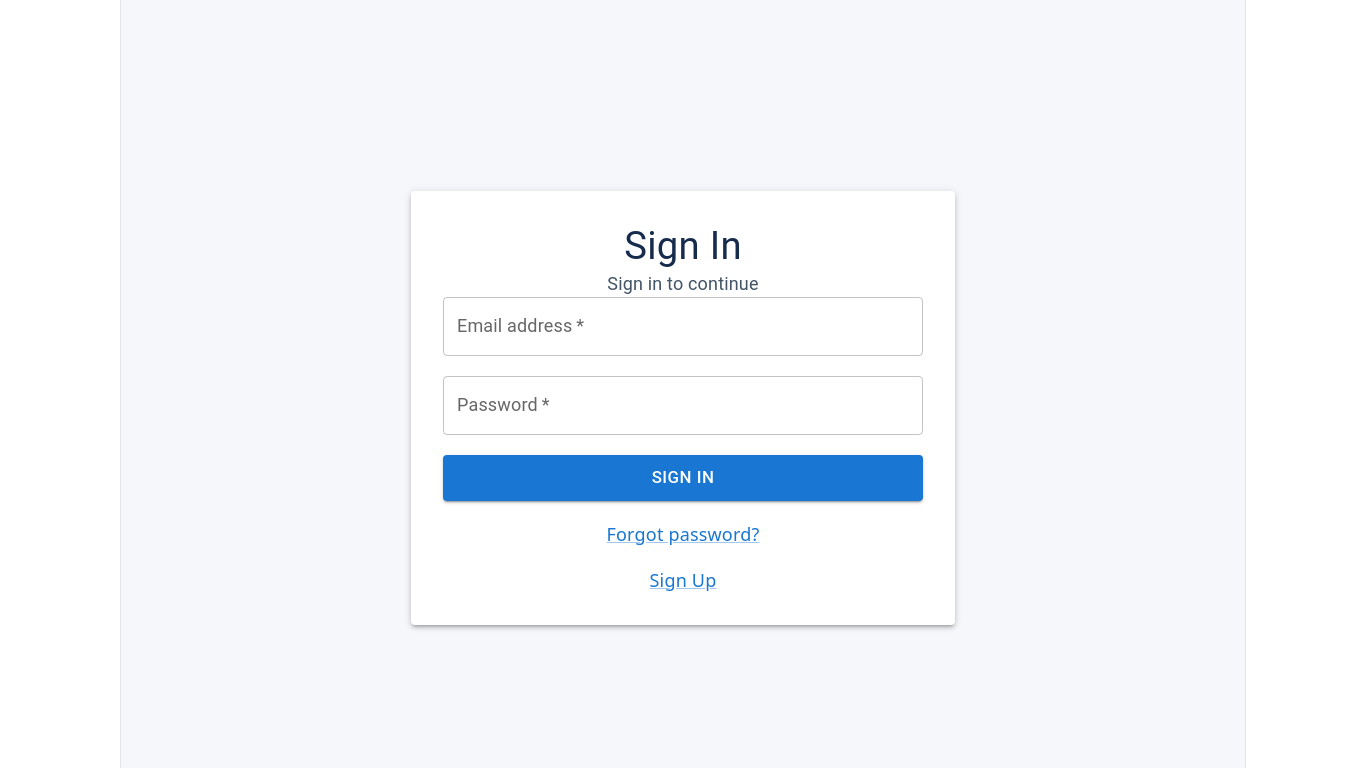
Test: Sign In component › shows required validation errors when fields are empty
Click the button "Sign In". click: (683, 478)
box: [443,455,923,501]
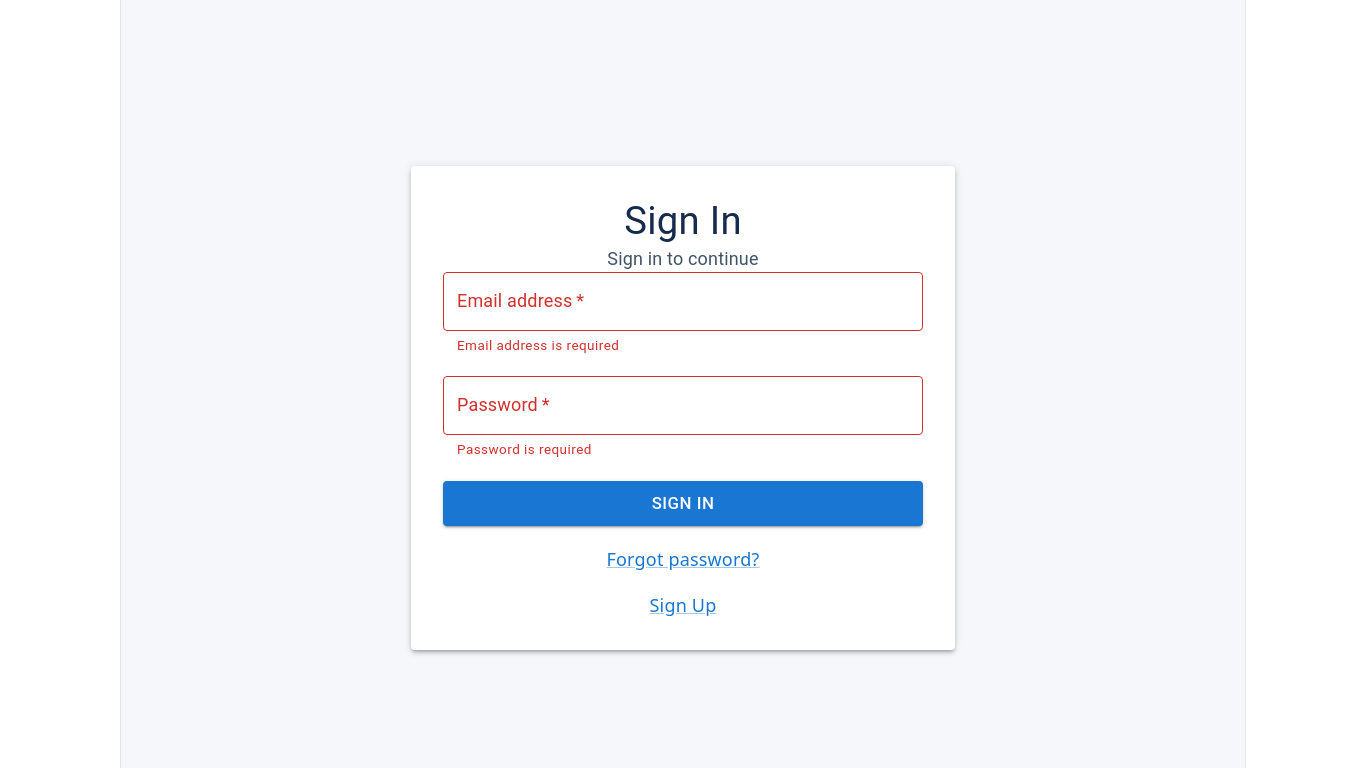
expect the text "Email address is required" is shown: met, box [457,337,619,353]
expect the text "Password is required" is shown: met, box [457,441,592,457]
